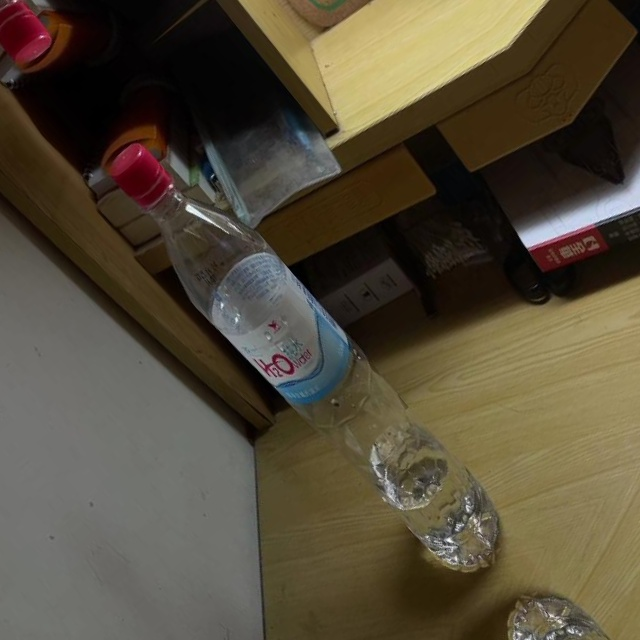Water: (89, 113, 523, 602)
